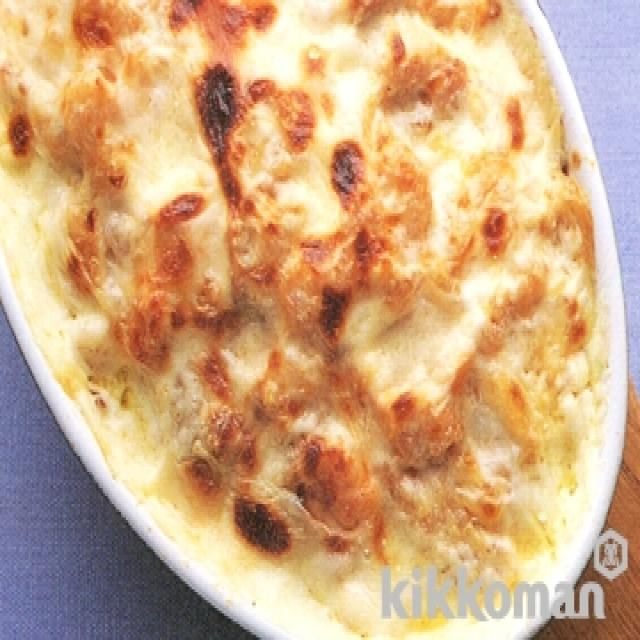米饭主食: (4, 11, 615, 629)
